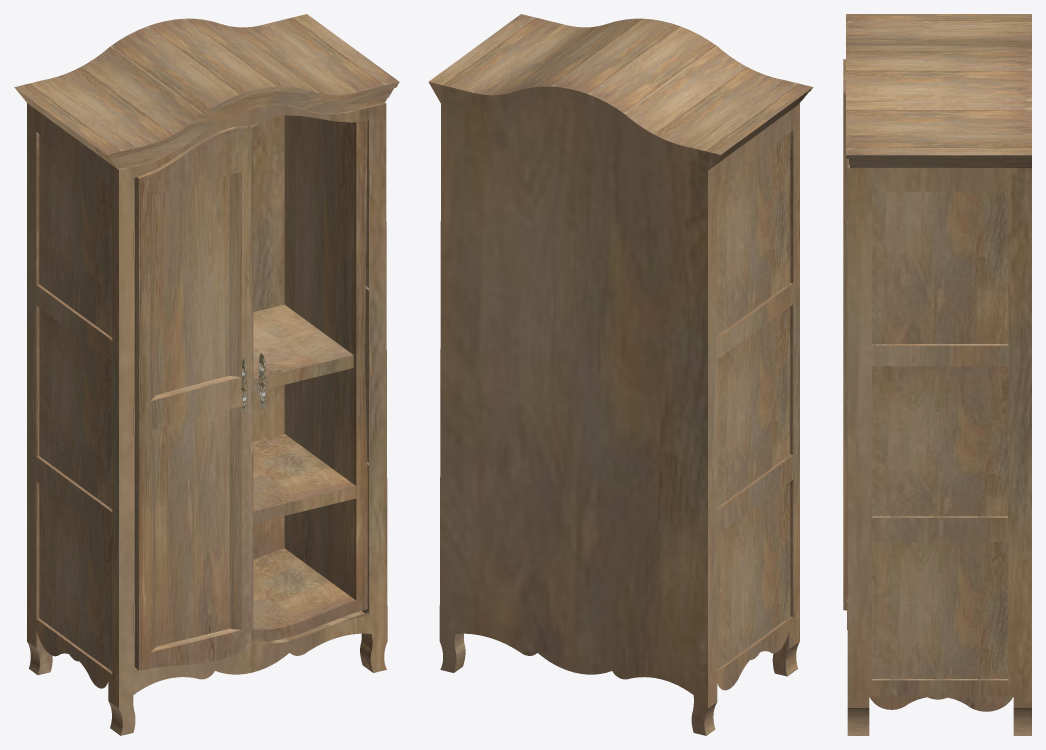
File: Armoire.FBX
The picture shows the model from 3 angles, left to right: view 1: azimuth 30°, elevation 25°; view 2: azimuth 150°, elevation 25°; view 3: azimuth 270°, elevation 25°; orthographic projection.
Parts seen in each view (by area): view 1: Armoire, AMoireDoorL, ArmoireInner; view 2: Armoire; view 3: Armoire, AMoireDoorL.
Part boxes in pixels (left/top/right/bottom): Armoire: left=14, top=14, right=399, bottom=735; AMoireDoorL: left=134, top=126, right=253, bottom=670; ArmoireInner: left=253, top=115, right=367, bottom=641; Armoire: left=428, top=14, right=813, bottom=735; Armoire: left=844, top=14, right=1031, bottom=735; AMoireDoorL: left=843, top=59, right=847, bottom=609.
Size of the model in its own units: 103 by 206 by 57.72.
Materials: 2 (2 with a texture image).
